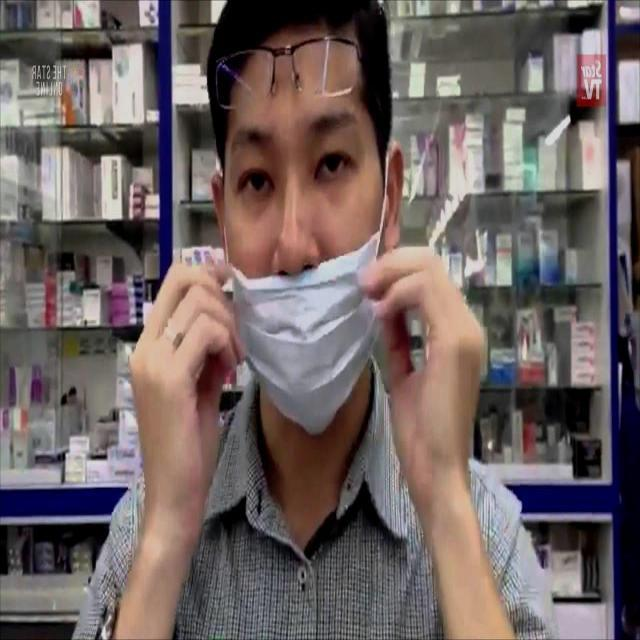hairnet: (227, 191, 384, 431)
